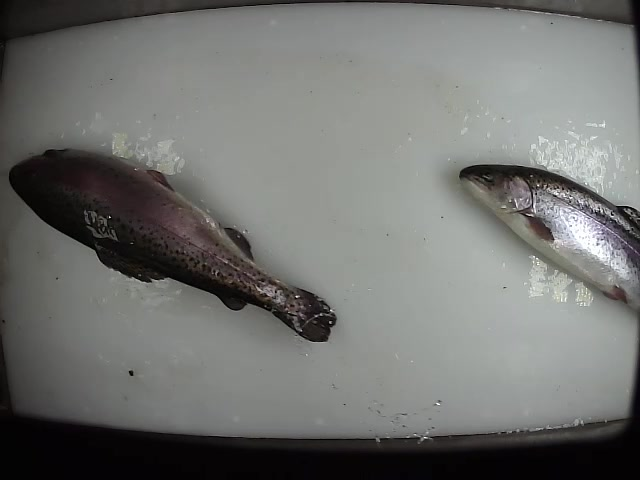fish: (7, 146, 337, 343)
